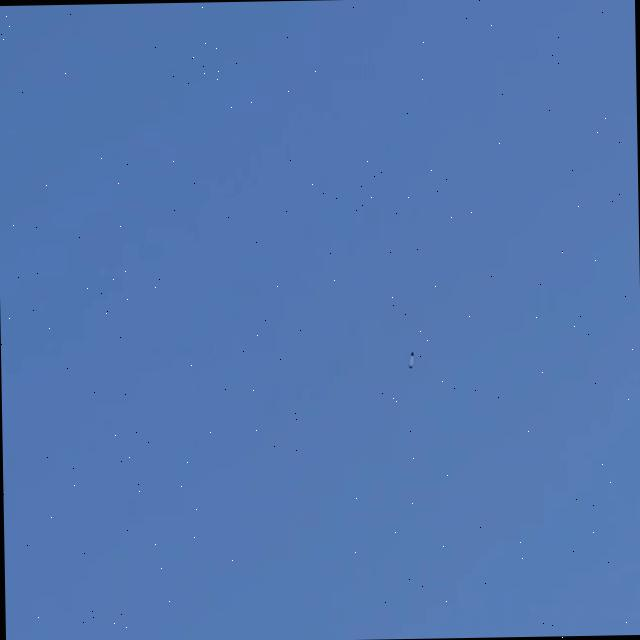rocket: (406, 349, 416, 371)
